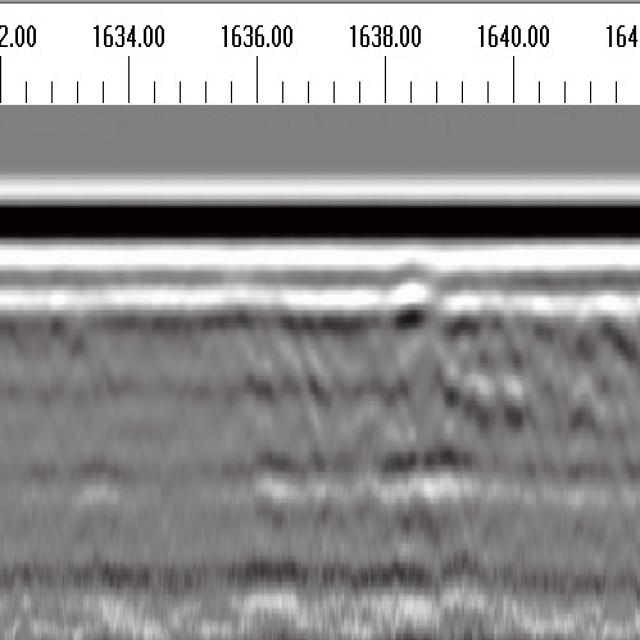loose: (224, 289, 640, 495)
